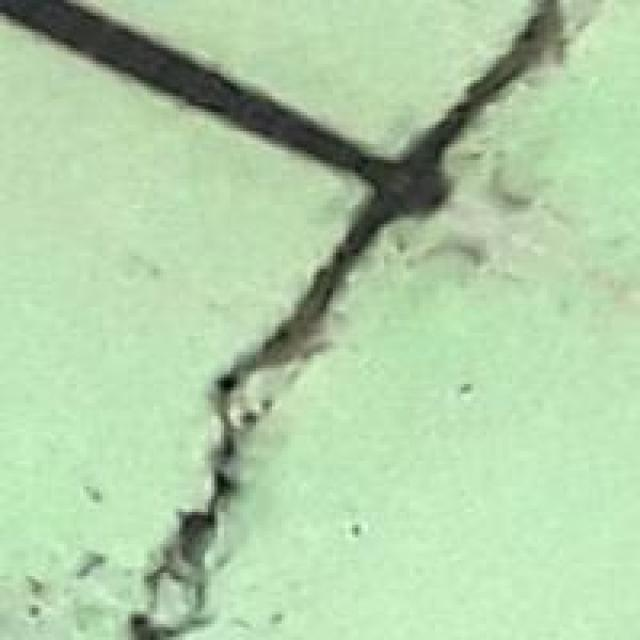Crack: (3, 0, 547, 611)
